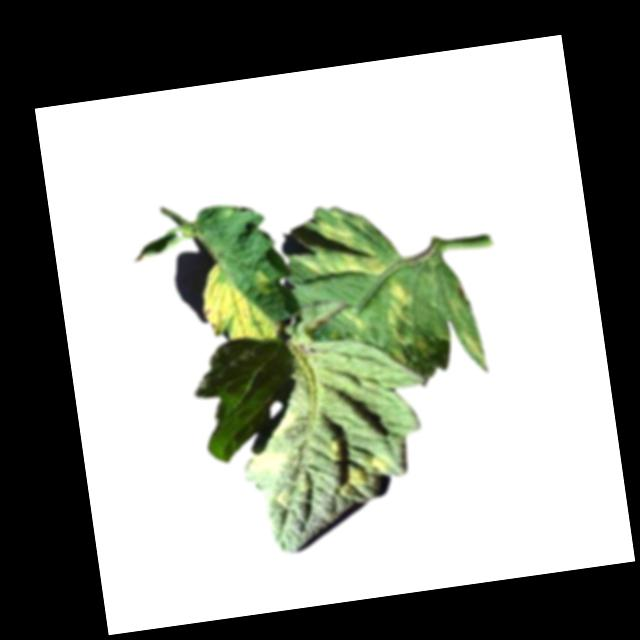Leaf_Mold: (196, 259, 277, 350), (296, 212, 390, 288), (377, 275, 419, 347), (246, 448, 292, 481), (336, 461, 367, 496), (369, 454, 389, 477)
